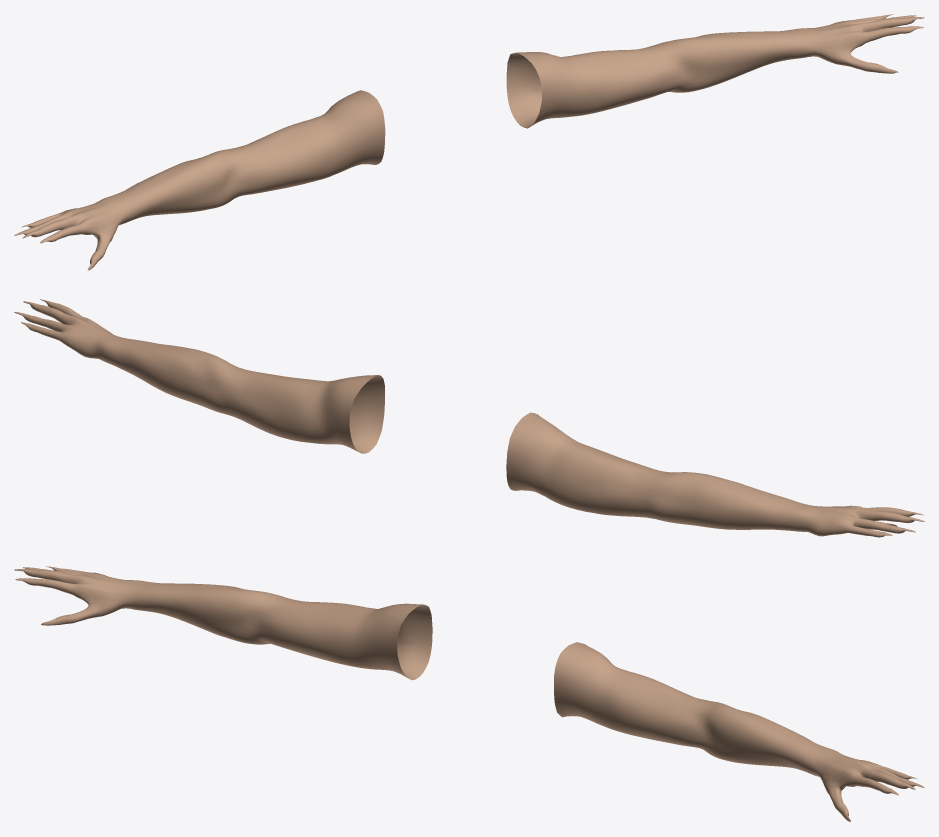
The model's file is BrazosSeparados.fbx.
3 views of the same model, one above another, from view 1: azimuth 30°, elevation 25°; view 2: azimuth 150°, elevation 25°; view 3: azimuth 330°, elevation 25° (orthographic).
Parts seen in each view (by area): view 1: Brazo Iz, Retopo_Arms; view 2: Retopo_Arms, Brazo Iz; view 3: Retopo_Arms, Brazo Iz.
Boxes of the visible parts, x1,y1,x2,y2 form: Brazo Iz: (506, 14, 924, 128); Retopo_Arms: (14, 90, 385, 270); Retopo_Arms: (506, 412, 924, 537); Brazo Iz: (14, 299, 384, 453); Retopo_Arms: (14, 566, 432, 680); Brazo Iz: (554, 642, 924, 821).
Size of the model in its own units: 96.21 by 7.38 by 12.02.
